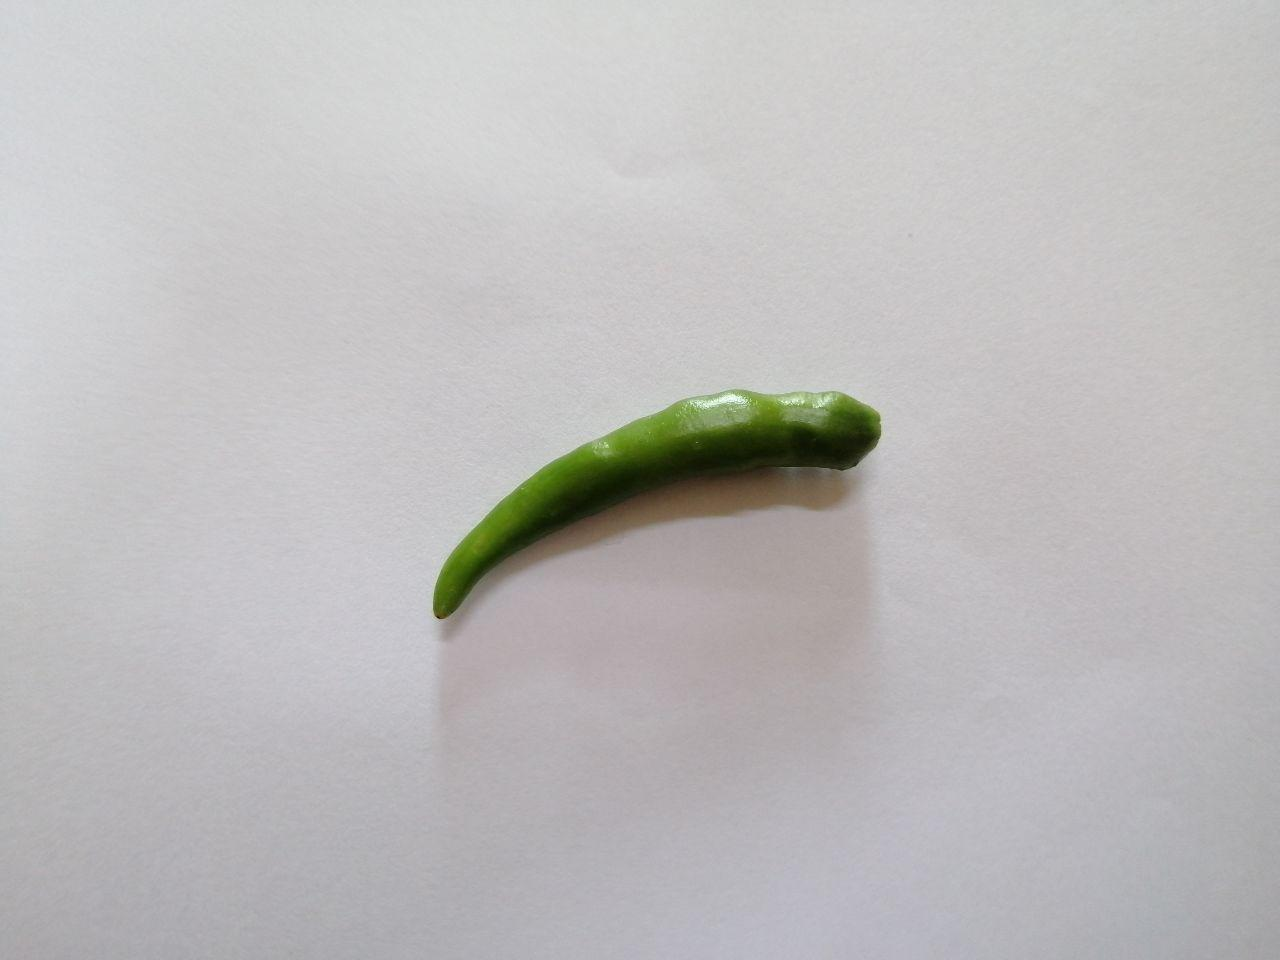lada hijau: (419, 369, 897, 634)
